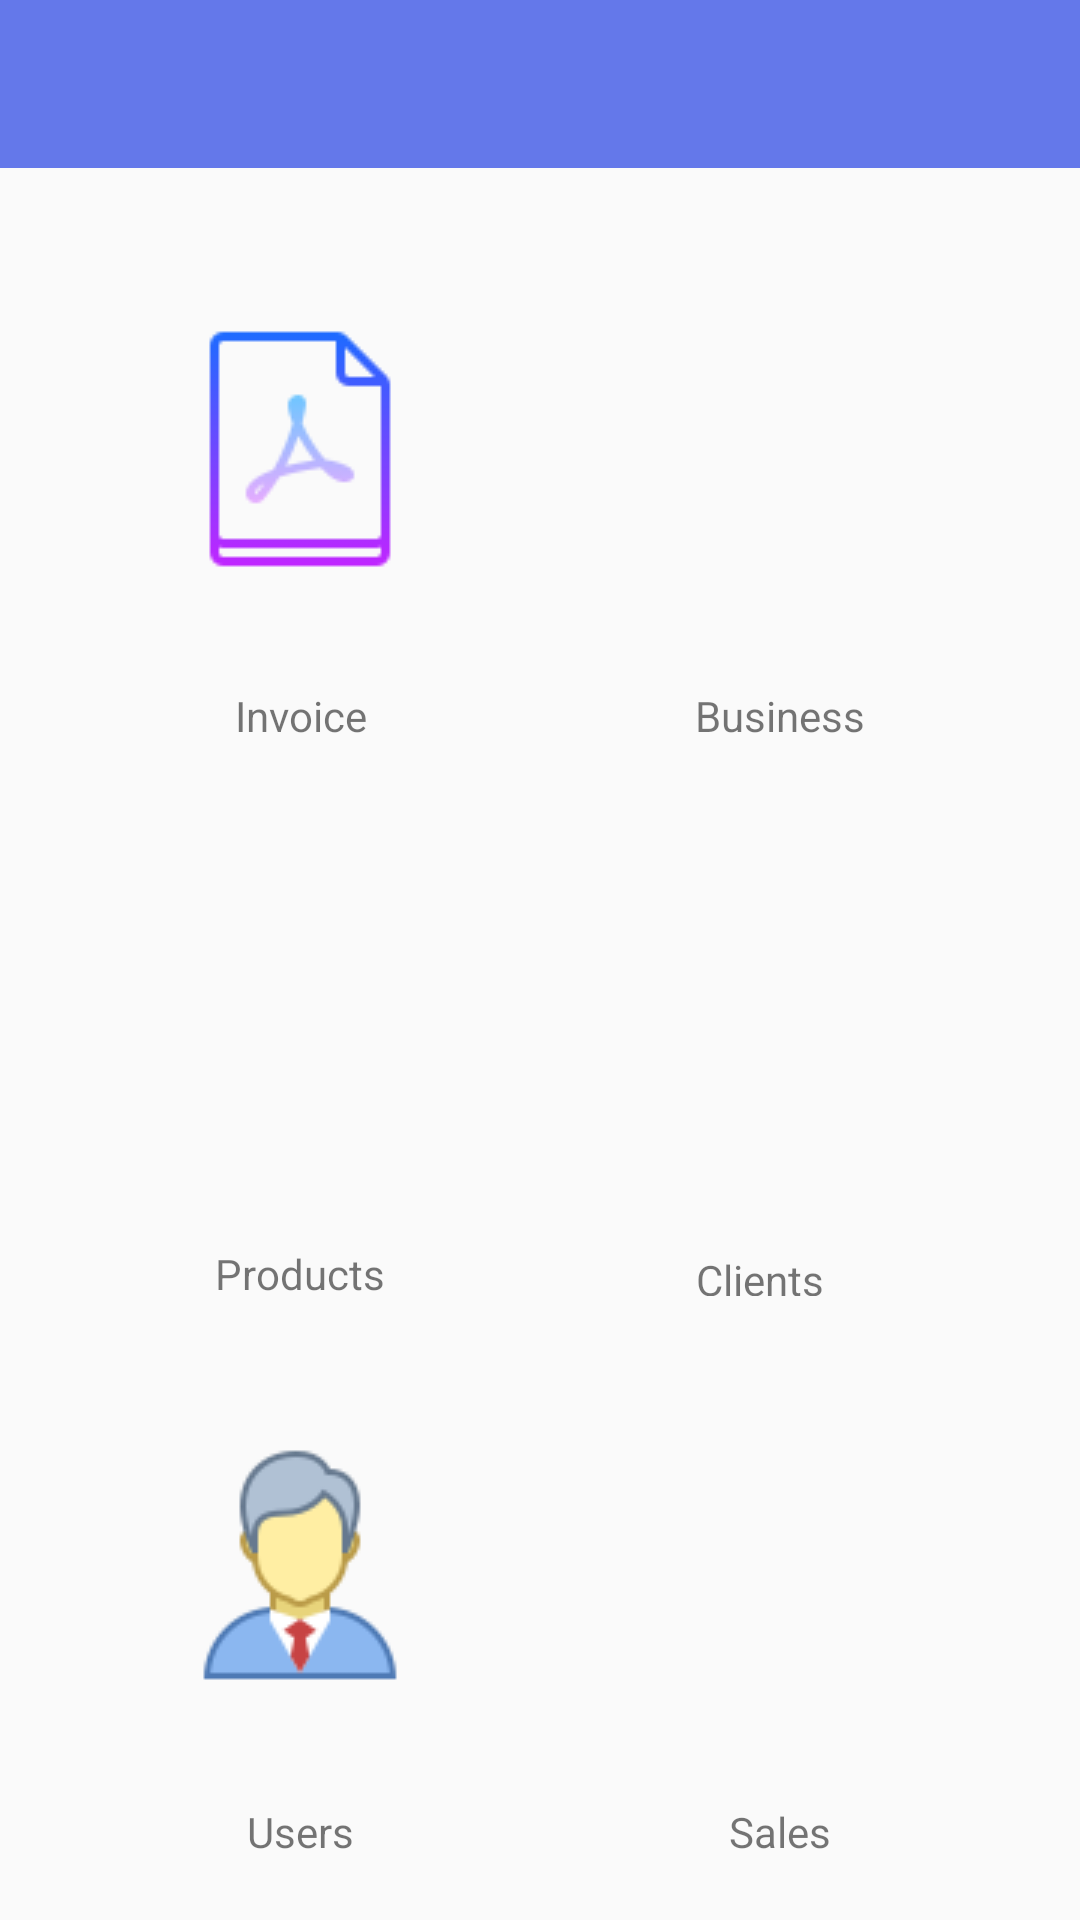

Locate icon controls on the screen. Image size 1080×1920, boxes as (x1, y1, x2, y2).
businessman: (203, 1450, 397, 1680)
